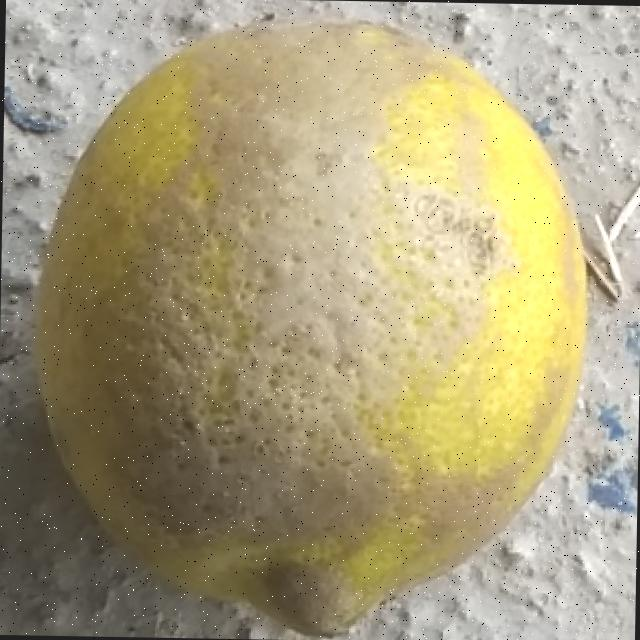overripe: (13, 5, 600, 640)
